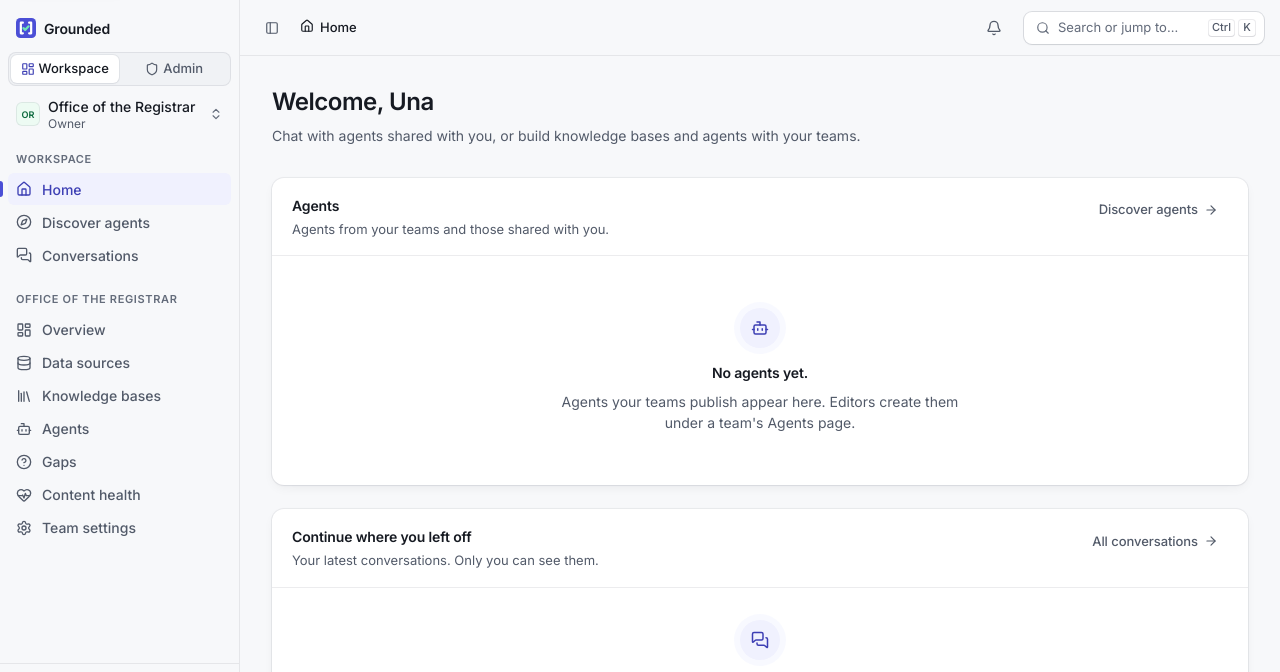
⌘K admin pages (I1) › takes “profile migration” to the Migrations tab of Embedding profiles
Expected: the navigation bar named "Main" is shown, [8,150,231,544]
Type keys "{Control>}k{/Control}"
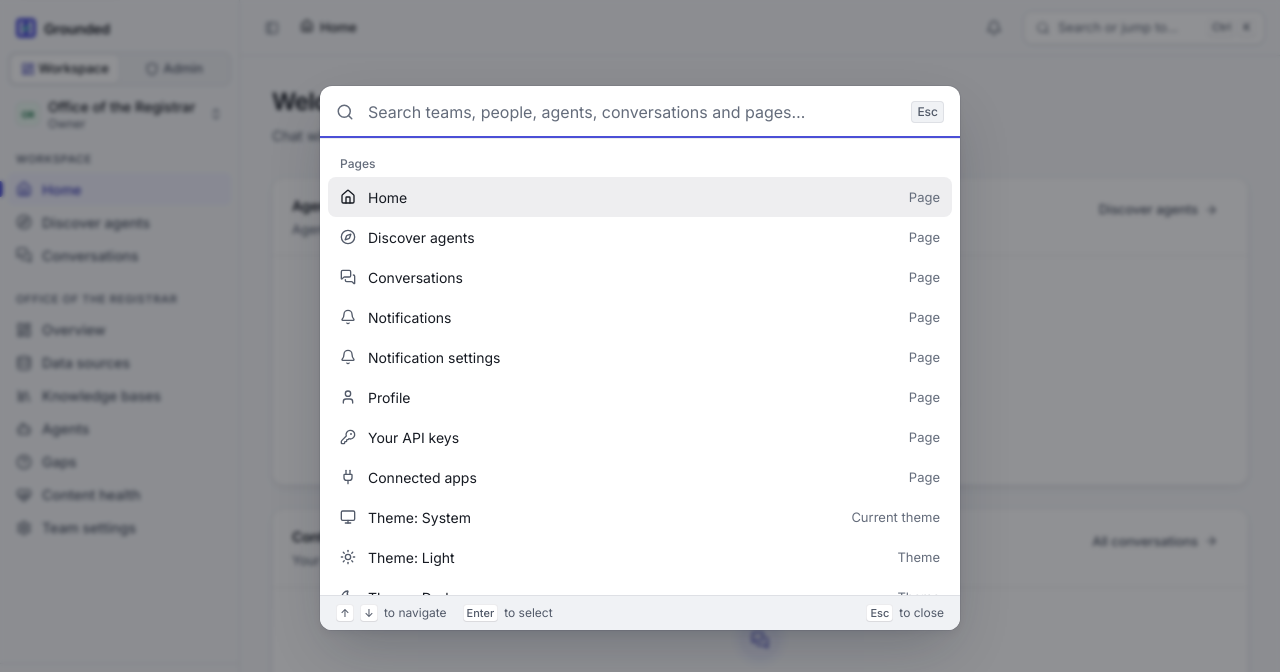
Type "profile migration" into the dropdown named "Command palette". click: (633, 112)
box: [366,86,899,138]
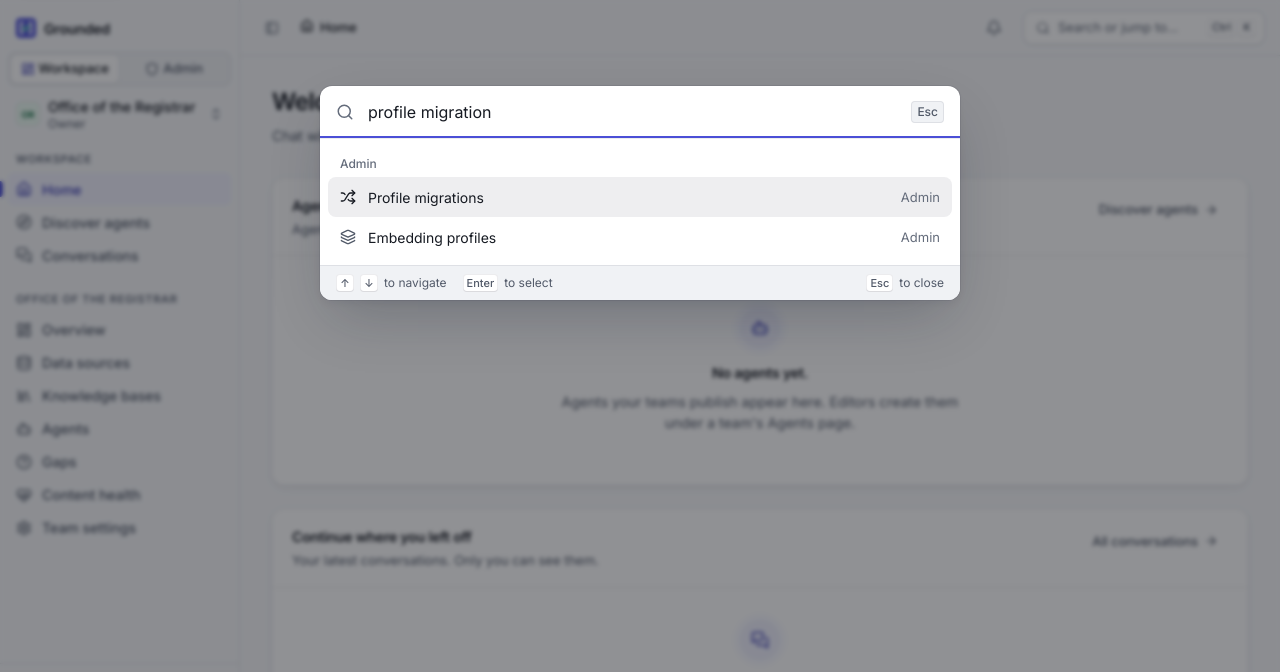
Click the option "Profile migrations Admin". click: (426, 197)
box: [328,177,952,217]
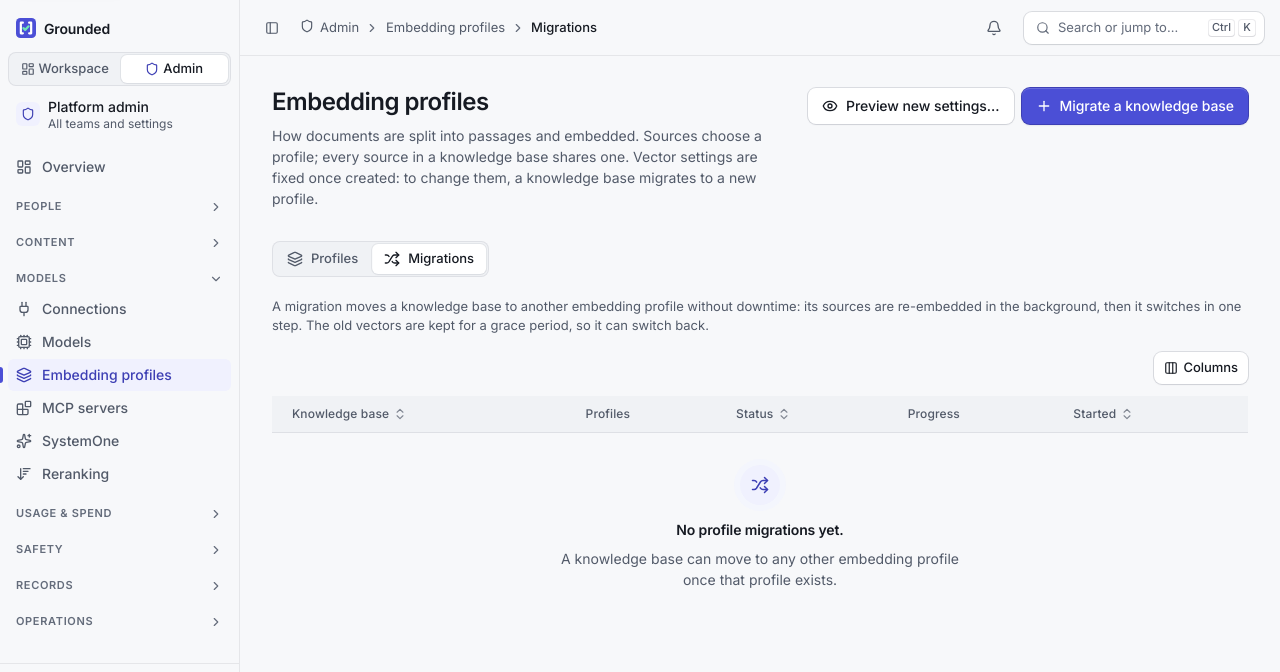
Expected: the tab "Migrations" is shown, [372,244,486,274]
